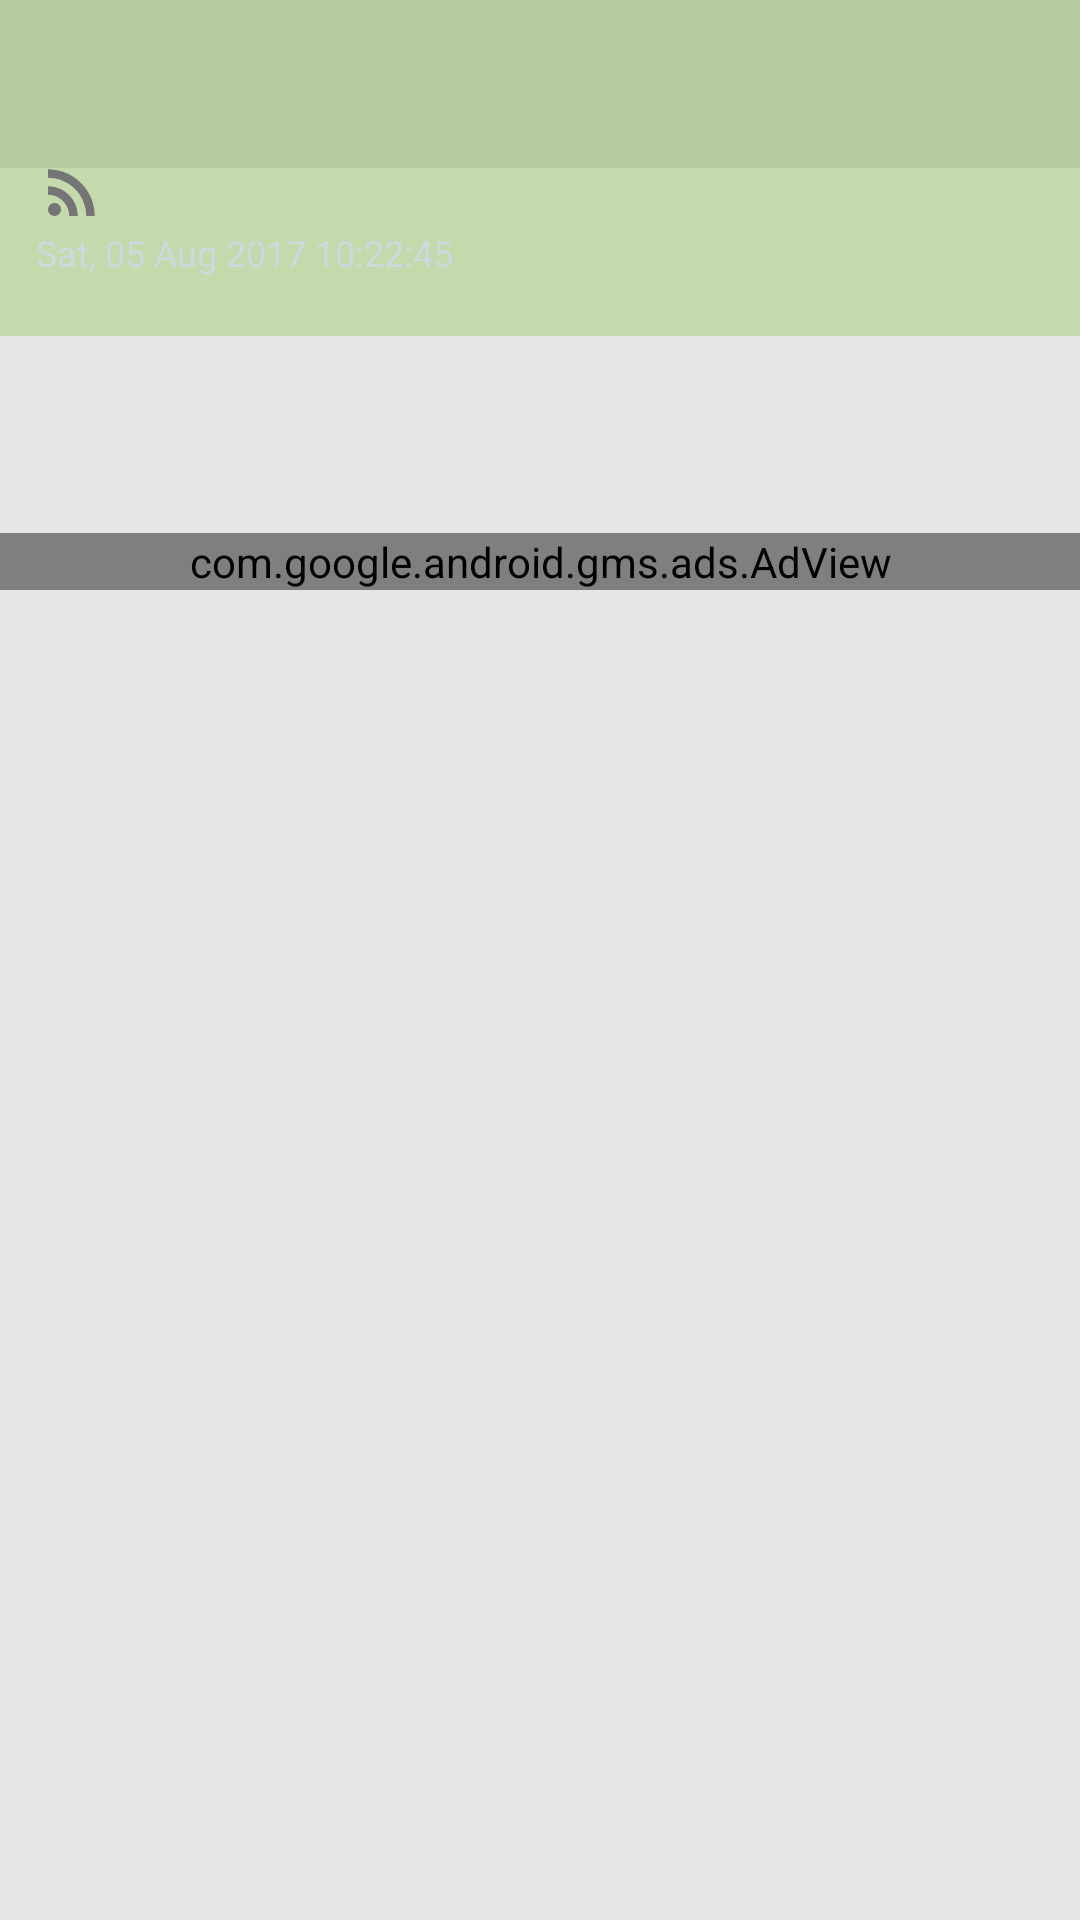

Icons on this 1080w x 1920h Android screen, each with the point to tap as (x,y):
rss feed: (71,192)
